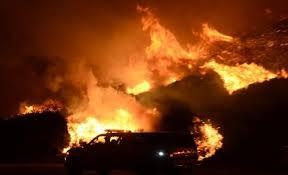fire: (129, 9, 286, 101), (61, 104, 146, 153), (189, 117, 225, 160), (17, 99, 45, 115)
